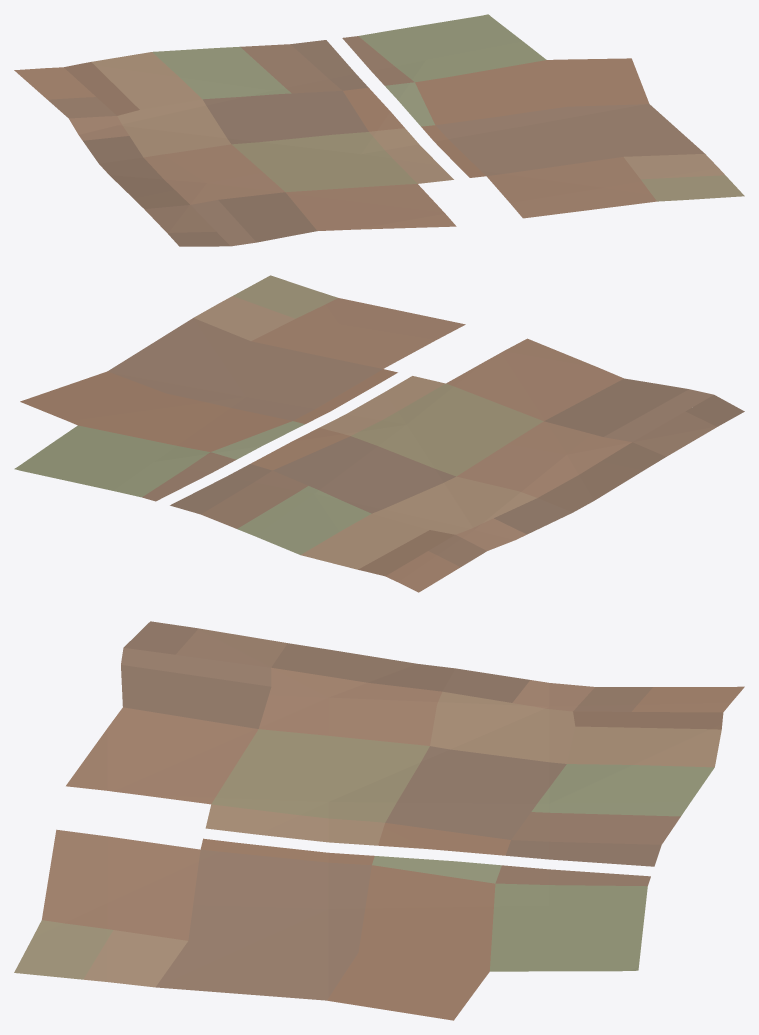
File: farm_14_6_soil.glb
3 renders of one model, top to bottom at view 1: azimuth 30°, elevation 25°; view 2: azimuth 150°, elevation 25°; view 3: azimuth 270°, elevation 25°, orthographic. The views are drawn at different scales.
Parts seen in each view (by area): view 1: geometry_0; view 2: geometry_0; view 3: geometry_0.
Part boxes in pixels (box(x1,y1,x2,y2)): geometry_0: box(14, 14, 744, 246); geometry_0: box(14, 275, 744, 592); geometry_0: box(14, 621, 744, 1020).
Bounding box in the file's own units: 298 × 20.57 × 265.
